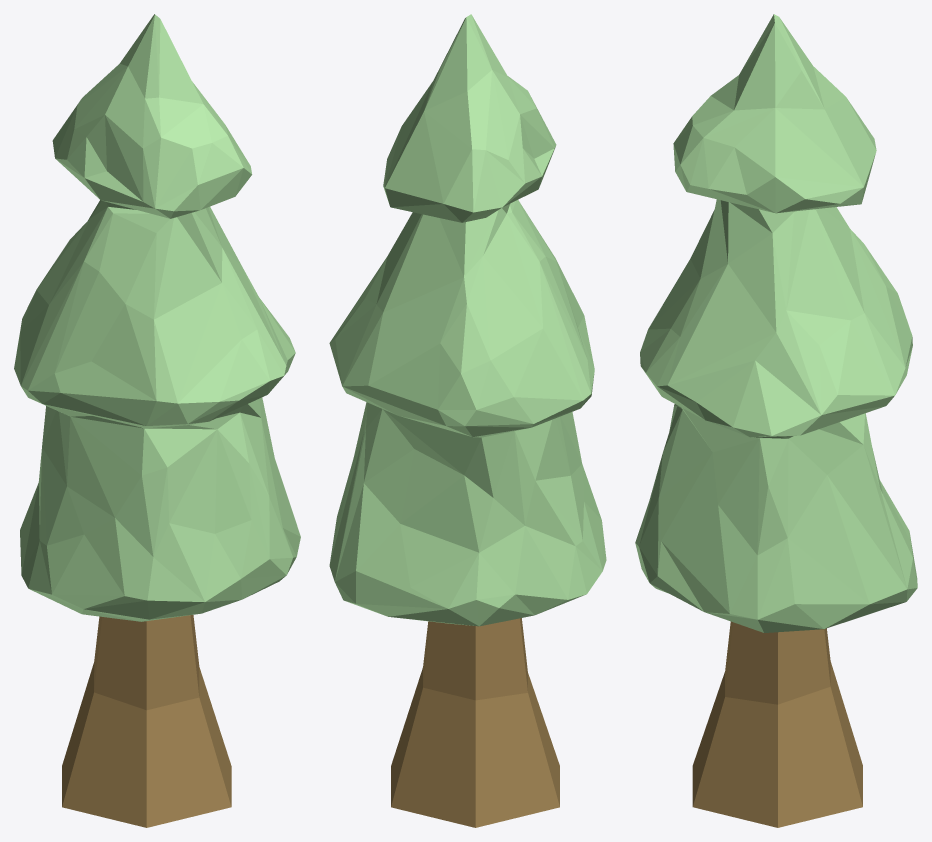
The model's file is Pinetree.fbx.
3 renders of one model, left to right at view 1: azimuth 30°, elevation 25°; view 2: azimuth 150°, elevation 25°; view 3: azimuth 270°, elevation 25°, orthographic.
Visible parts, largest first — view 1: pCylinder3; view 2: pCylinder3; view 3: pCylinder3.
Part boxes in pixels (x1,y1,x2,y2): pCylinder3: (14,14,300,827); pCylinder3: (329,14,606,827); pCylinder3: (635,14,917,827).
Bounding box in the file's own units: 105 × 301 × 99.36.
